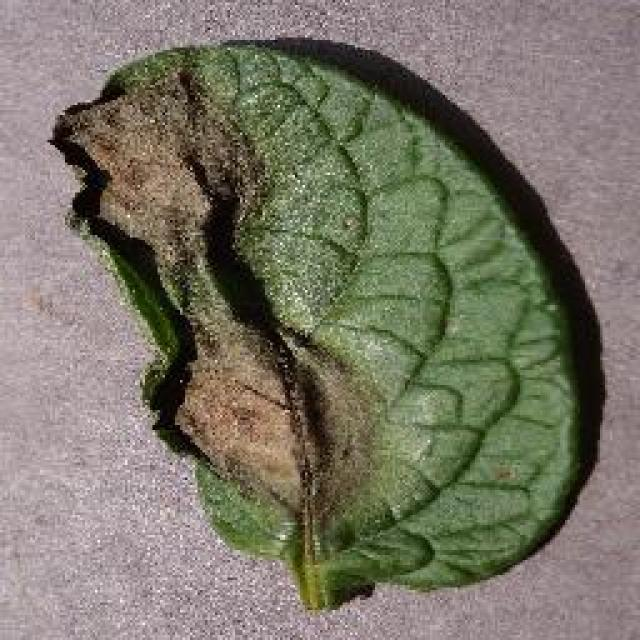late_blight: (45, 32, 607, 612)
